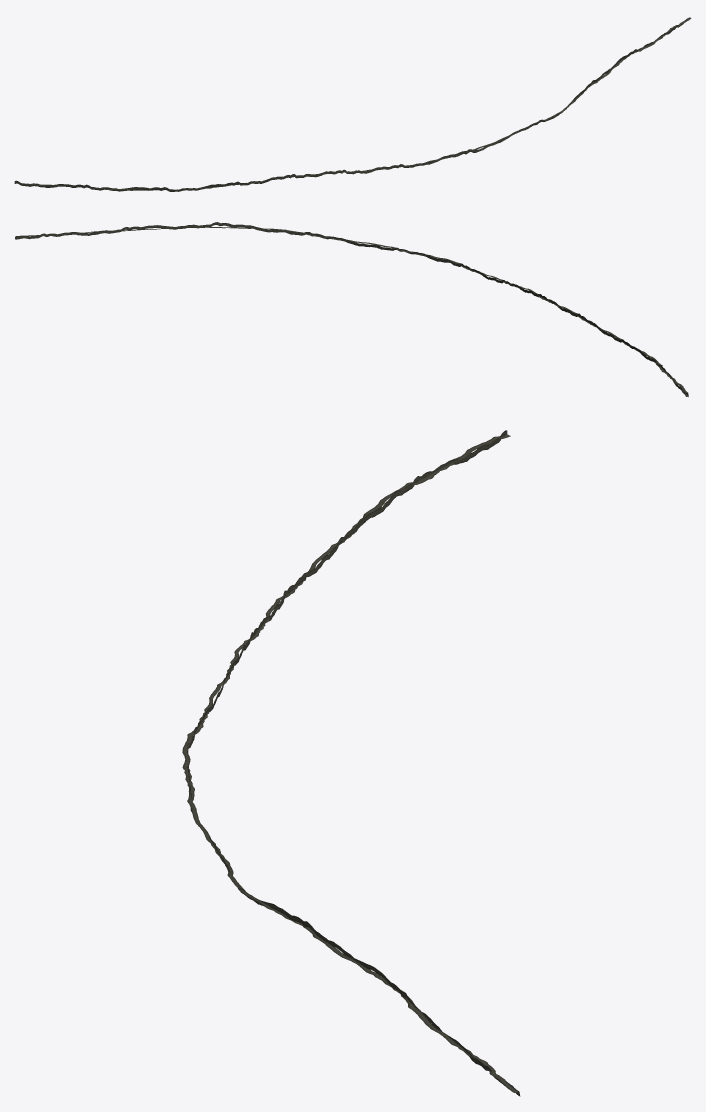
The model's file is FO_UnderBrush_01_Part_04.fbx.
3 views of the same model, one above another, from view 1: azimuth 30°, elevation 25°; view 2: azimuth 150°, elevation 25°; view 3: azimuth 270°, elevation 25° (orthographic). The views are drawn at different scales.
Parts seen in each view (by area): view 1: FO_UnderBrush_01_Part_04; view 2: FO_UnderBrush_01_Part_04; view 3: FO_UnderBrush_01_Part_04.
Part boxes in pixels (x1,y1,x2,y2): FO_UnderBrush_01_Part_04: (14, 17, 691, 191); FO_UnderBrush_01_Part_04: (15, 222, 688, 396); FO_UnderBrush_01_Part_04: (182, 430, 520, 1096).
Size of the model in its own units: 25.67 by 0.6102 by 5.74.
